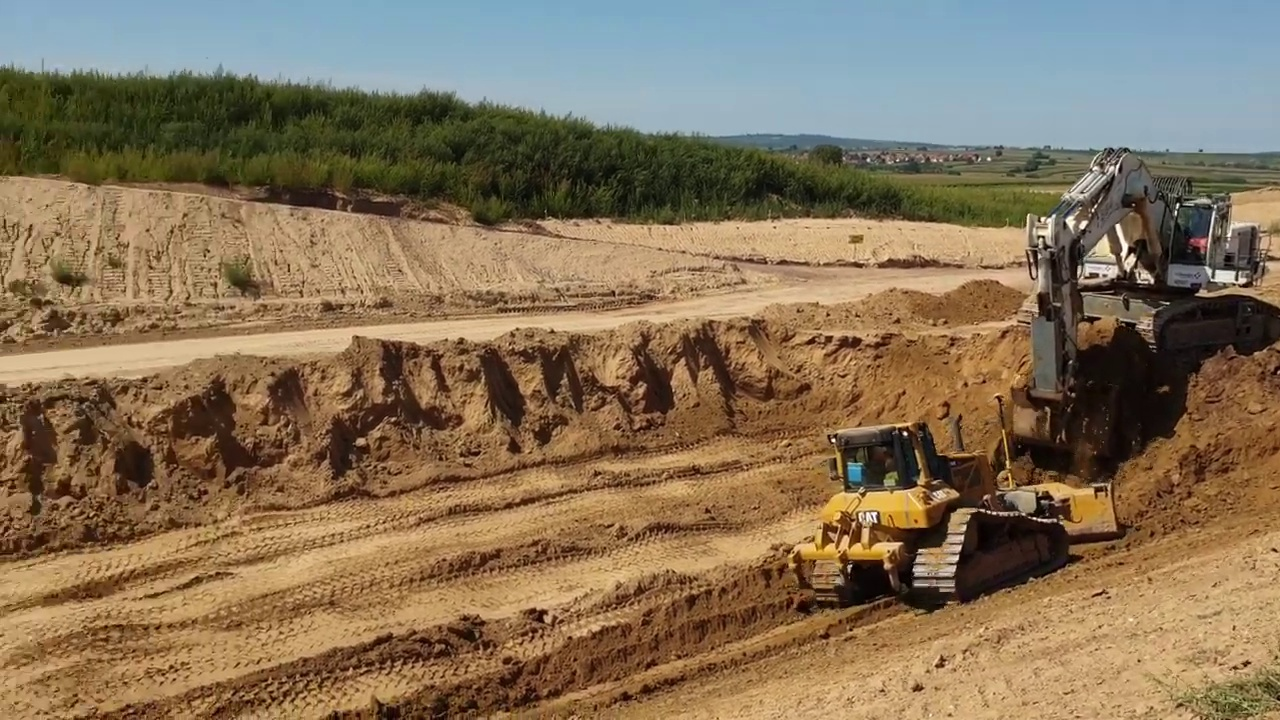bulldozer: (791, 393, 1132, 612)
excavator: (1002, 144, 1277, 481)
